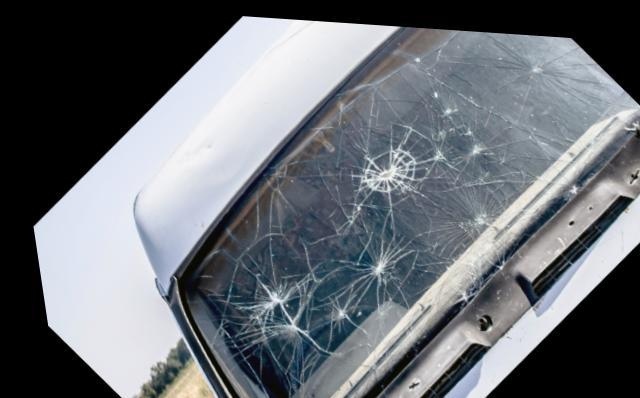dent: (266, 15, 313, 45)
glass shatter: (177, 21, 640, 398)
